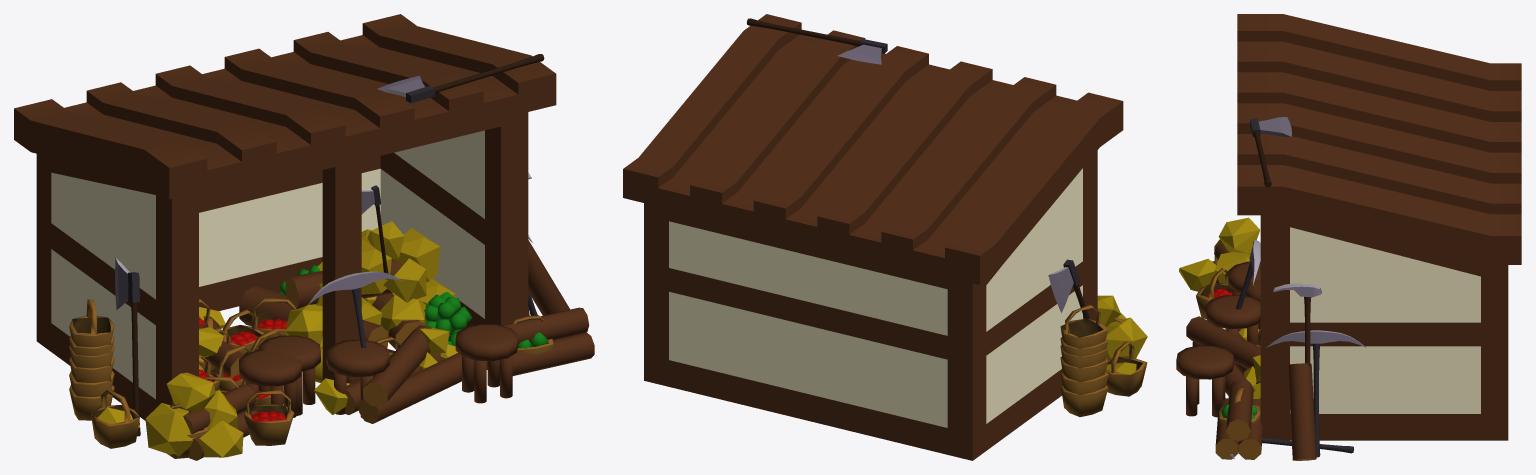
Rendered from ResourceCamp.fbx.
3 renders of one model, left to right at view 1: azimuth 30°, elevation 25°; view 2: azimuth 150°, elevation 25°; view 3: azimuth 270°, elevation 25°, orthographic. The views are drawn at different scales.
Parts seen in each view (by area): view 1: ResourceCamp, WoodCamp, MiningCamp, FoodCamp; view 2: ResourceCamp, FoodCamp, WoodCamp, MiningCamp; view 3: ResourceCamp, WoodCamp, MiningCamp, FoodCamp.
Part boxes in pixels (bbox=[...]): ResourceCamp: bbox=[14, 14, 556, 420]; WoodCamp: bbox=[115, 54, 594, 460]; MiningCamp: bbox=[97, 221, 537, 457]; FoodCamp: bbox=[69, 172, 553, 458]; ResourceCamp: bbox=[623, 14, 1123, 460]; FoodCamp: bbox=[1060, 304, 1147, 416]; WoodCamp: bbox=[747, 18, 1115, 322]; MiningCamp: bbox=[1097, 295, 1147, 374]; ResourceCamp: bbox=[1237, 14, 1521, 440]; WoodCamp: bbox=[1176, 117, 1316, 460]; MiningCamp: bbox=[1179, 217, 1366, 459]; FoodCamp: bbox=[1196, 256, 1321, 423].
Bounding box in the file's own units: 411 × 239 × 278.
